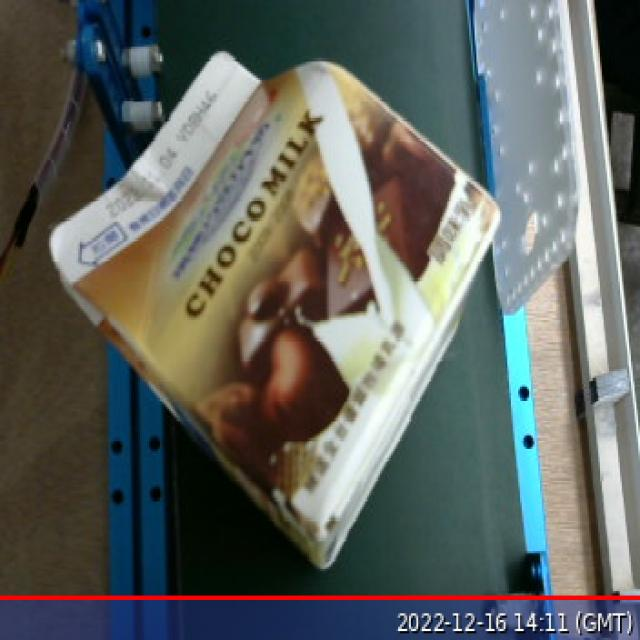non_white_jug: (35, 33, 513, 587)
